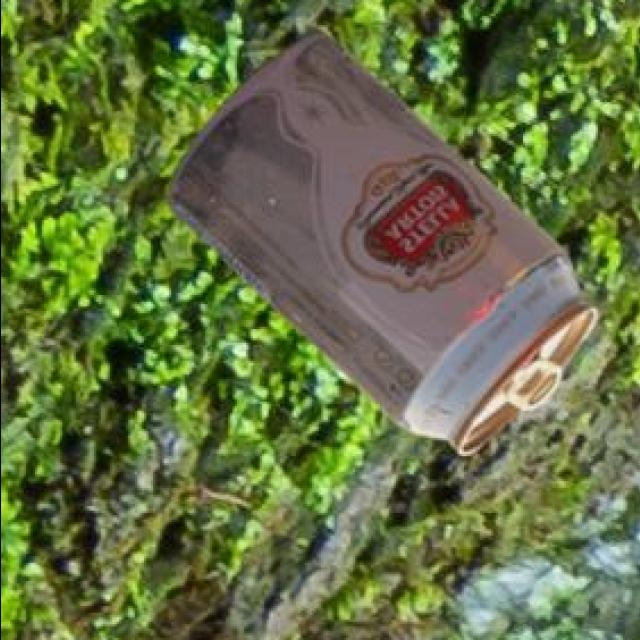logam: (169, 35, 600, 460)
